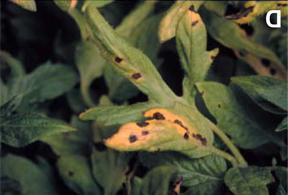Tomato leaf bacterial spot: (91, 6, 217, 160)
